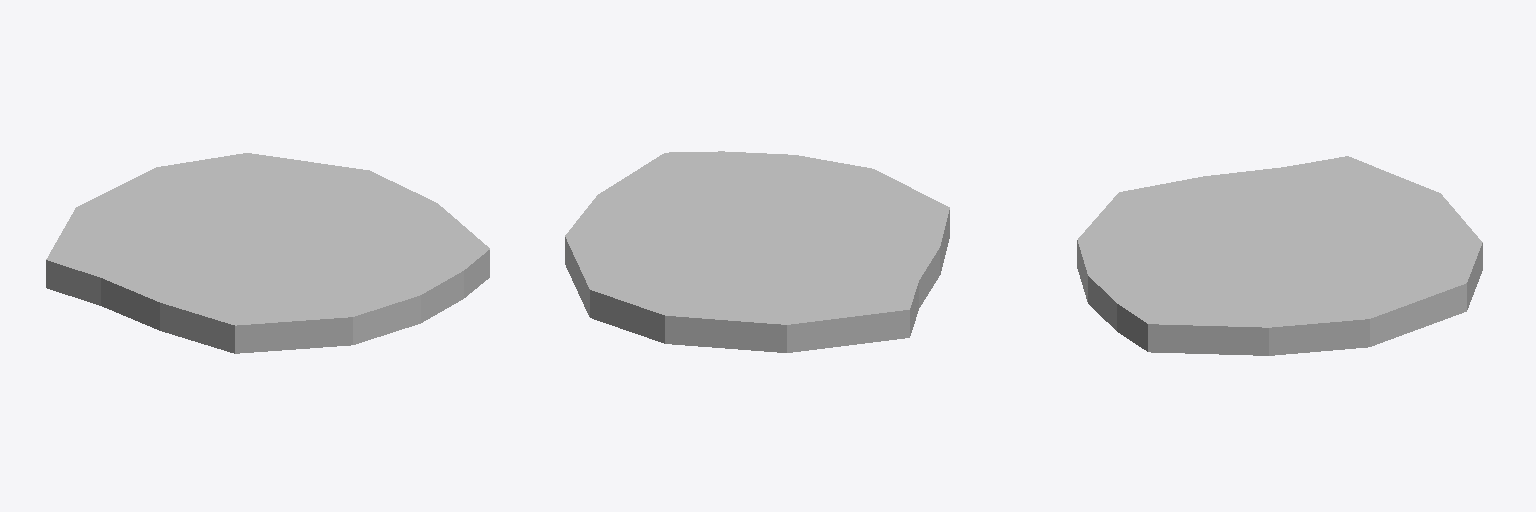
Rendered from GrassGround.obj.
3 renders of one model, left to right at view 1: azimuth 30°, elevation 25°; view 2: azimuth 150°, elevation 25°; view 3: azimuth 270°, elevation 25°, orthographic.
Parts seen in each view (by area): view 1: Green_platform_Untitled.002; view 2: Green_platform_Untitled.002; view 3: Green_platform_Untitled.002.
Part boxes in pixels (bbox=[...]): Green_platform_Untitled.002: bbox=[46, 153, 489, 353]; Green_platform_Untitled.002: bbox=[565, 151, 949, 352]; Green_platform_Untitled.002: bbox=[1077, 156, 1482, 355].
Bounding box in the file's own units: 1.04 × 0.0795 × 1.03.